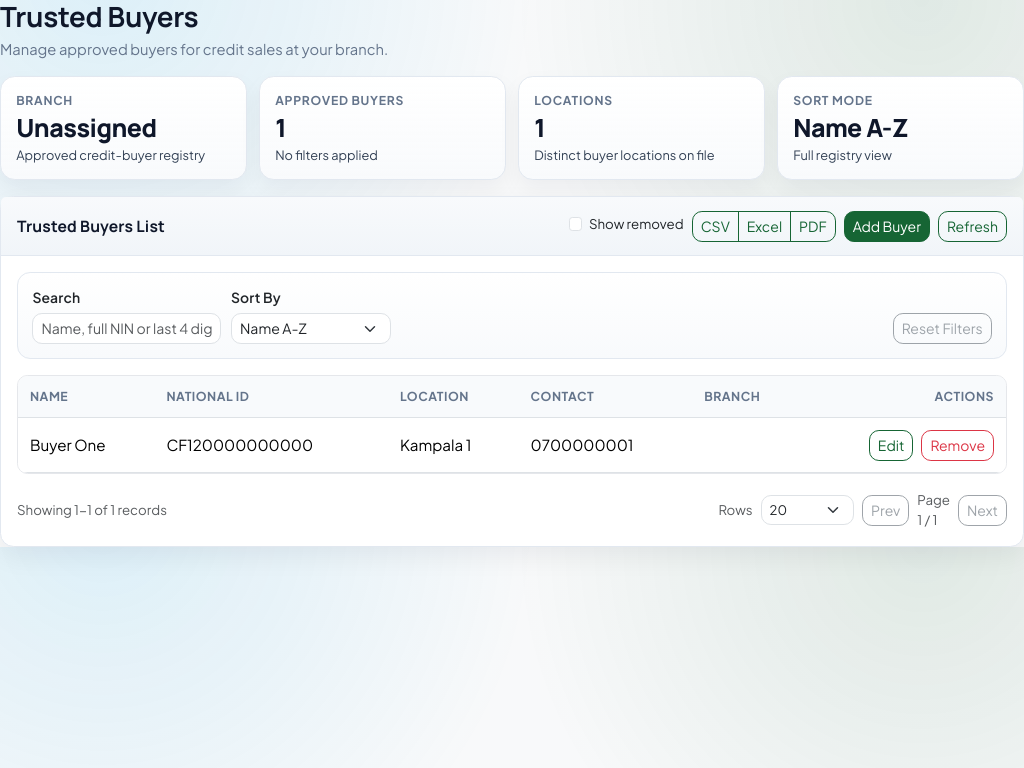
Forms Validation E2E › shows per-field errors and blocks invalid trusted-buyer submission
Click the button "Add Buyer" at {"x": 887, "y": 226}, box [844,210,930,242]
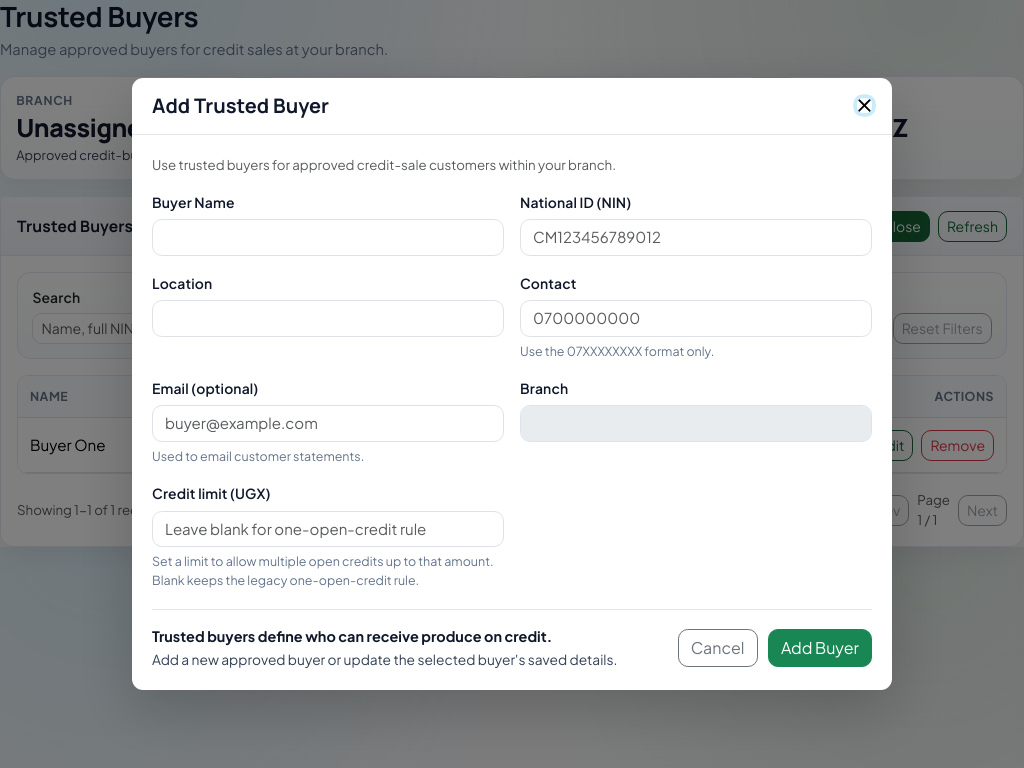
Submit the form, box [152,175,872,670]
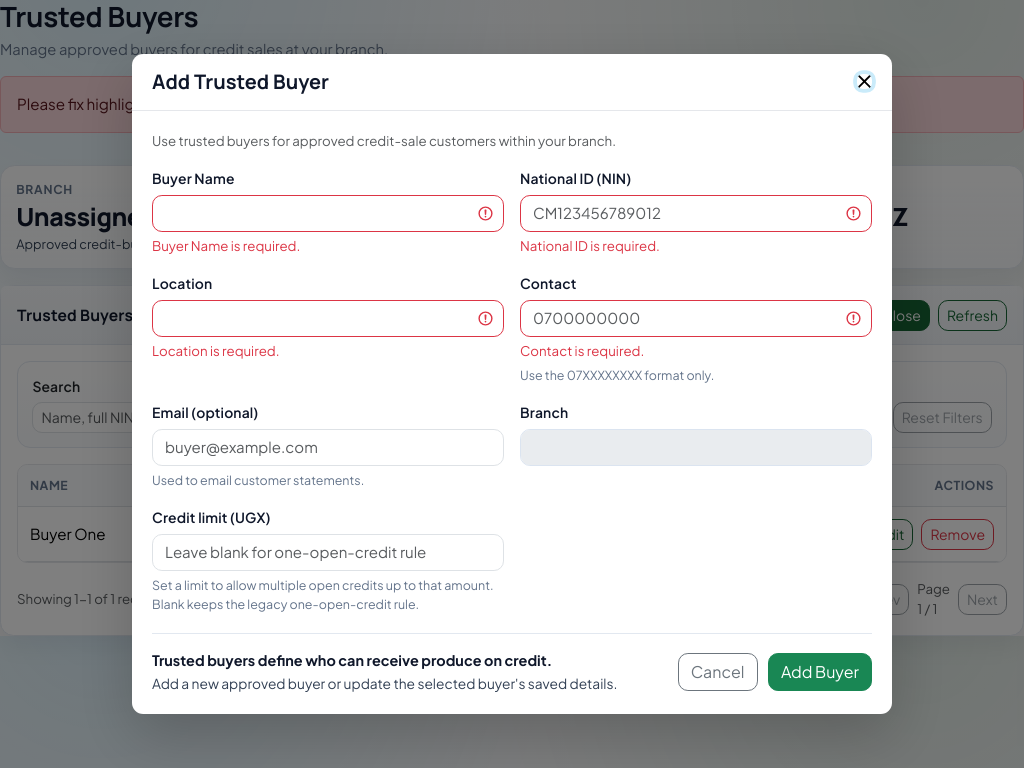
Now the text "Buyer Name is required." is shown, box [152,237,300,254]
Now the text "National ID is required." is shown, box [520,237,660,254]
Now the text "Location is required." is shown, box [152,342,280,359]
